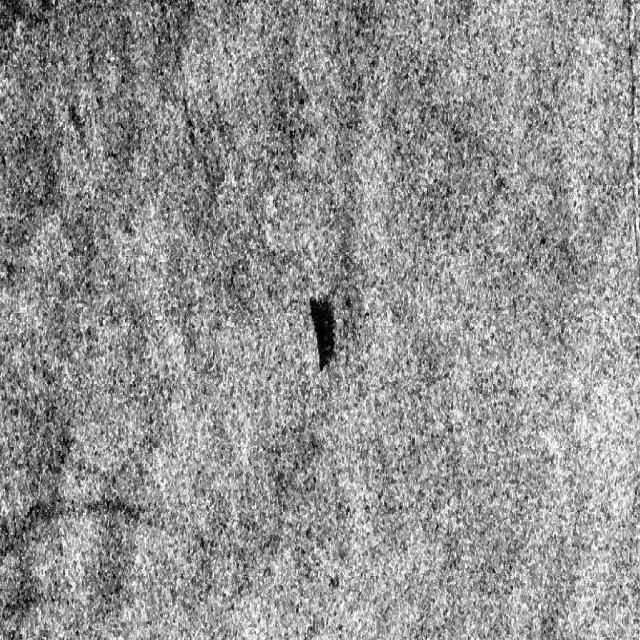look-alike: (2, 398, 77, 622), (143, 5, 201, 106), (89, 472, 156, 543), (2, 5, 61, 79), (66, 86, 103, 168)
oil-spill: (308, 286, 344, 376)
